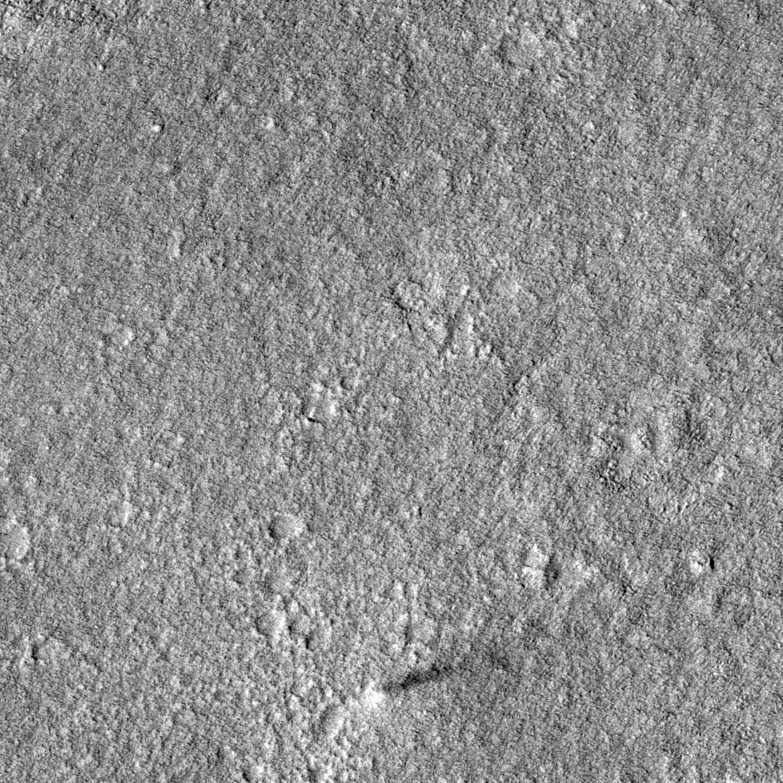dust_devil: (363, 658, 456, 710)
